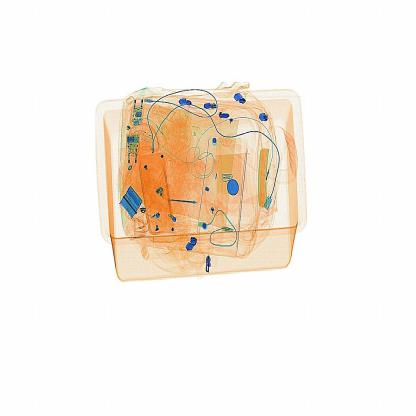wrench: (166, 193, 207, 209)
